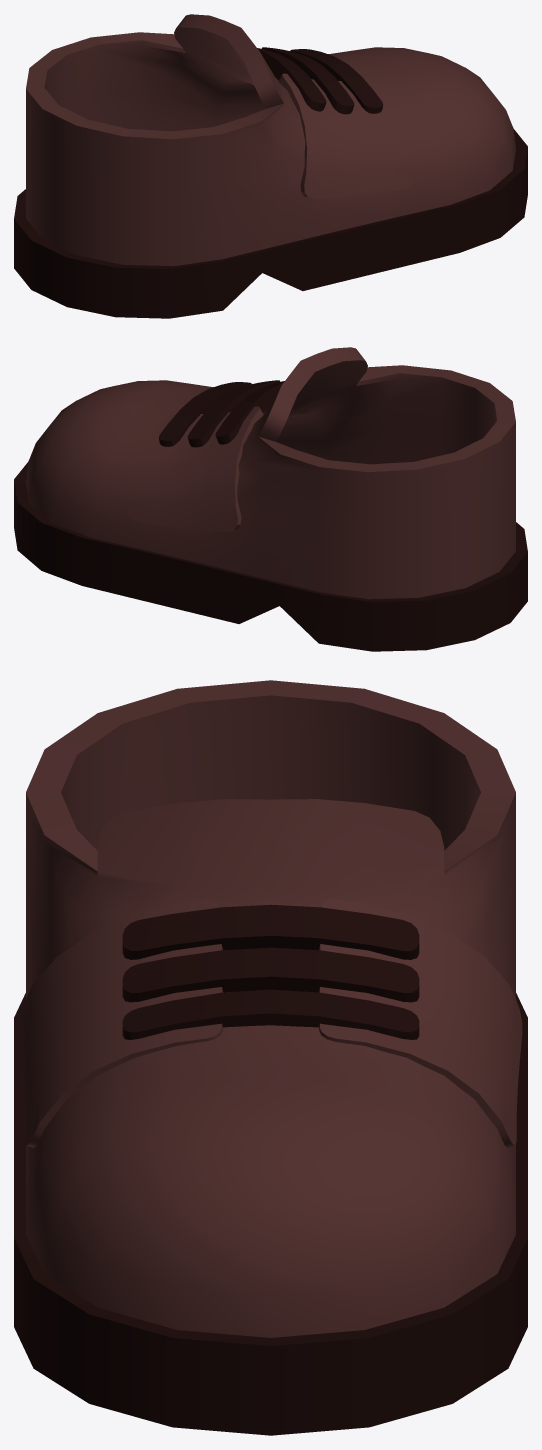
File: Mans_Shoe.gltf
3 views of the same model, one above another, from view 1: azimuth 30°, elevation 25°; view 2: azimuth 150°, elevation 25°; view 3: azimuth 270°, elevation 25° (orthographic). The views are drawn at different scales.
Visible parts, largest first — view 1: Sphere.362; view 2: Sphere.362; view 3: Sphere.362.
Part boxes in pixels (box(x1,y1,x2,y2)): Sphere.362: box(14, 14, 527, 318); Sphere.362: box(14, 347, 527, 651); Sphere.362: box(14, 680, 527, 1435).
Bounding box in the file's own units: 2.19 × 0.9222 × 1.1.
